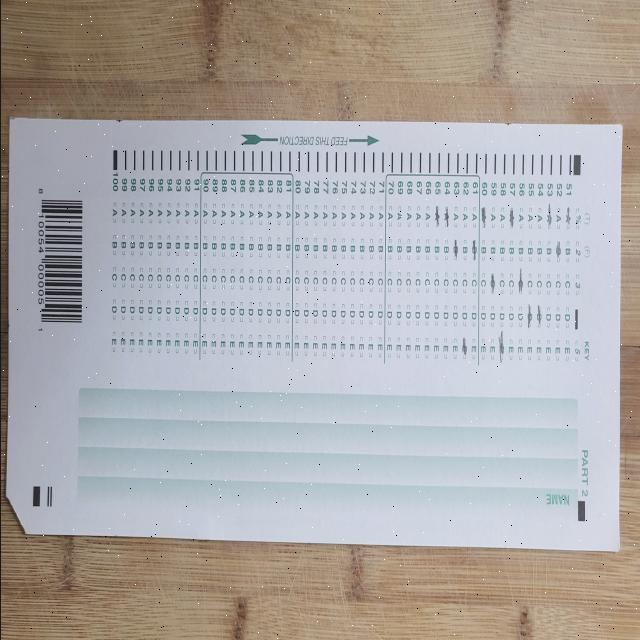scantron_back: (5, 119, 622, 551)
